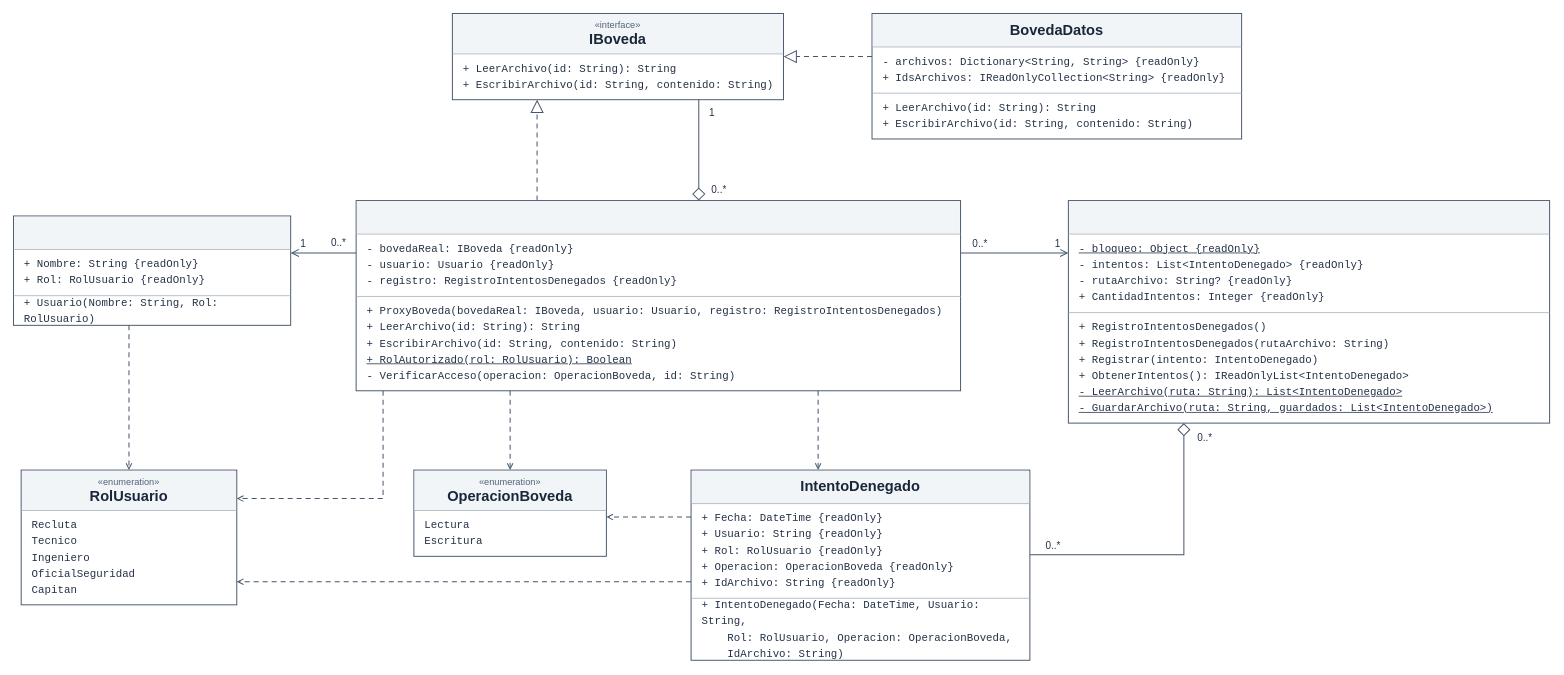
Image size: 1564x675. Some labels were removed from this diagram. The shapes that lost their labels are listed below. From the top down, each one's centre as x and y in pixels, then its label:
At point (152, 232): "Usuario".
At point (658, 217): "ProxyBoveda".
At point (1308, 217): "RegistroIntentosDenegados".
